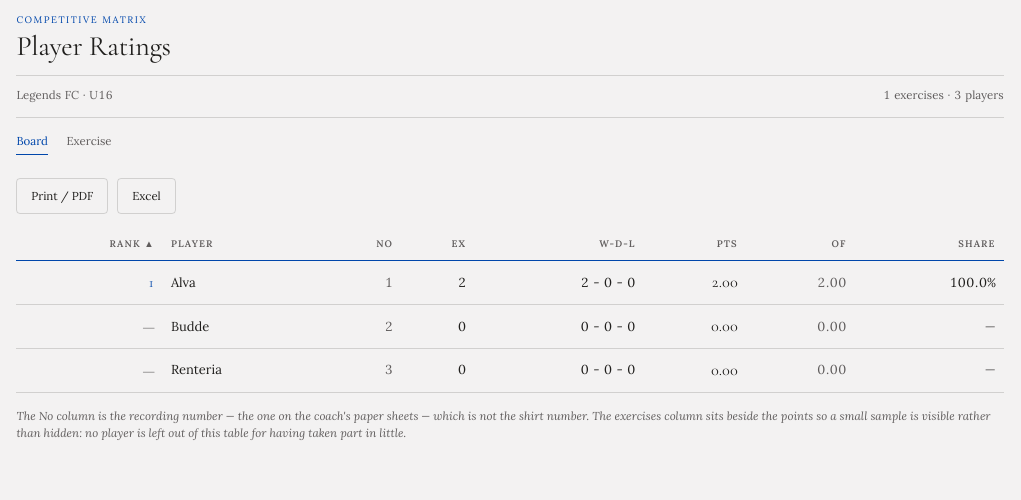
Test: a fitness standard › says so when the whole squad met the standard
The image size is (1021, 500).
Click the button "Exercise" at x=89, y=144, box x1=66 y1=132 x2=112 y2=155
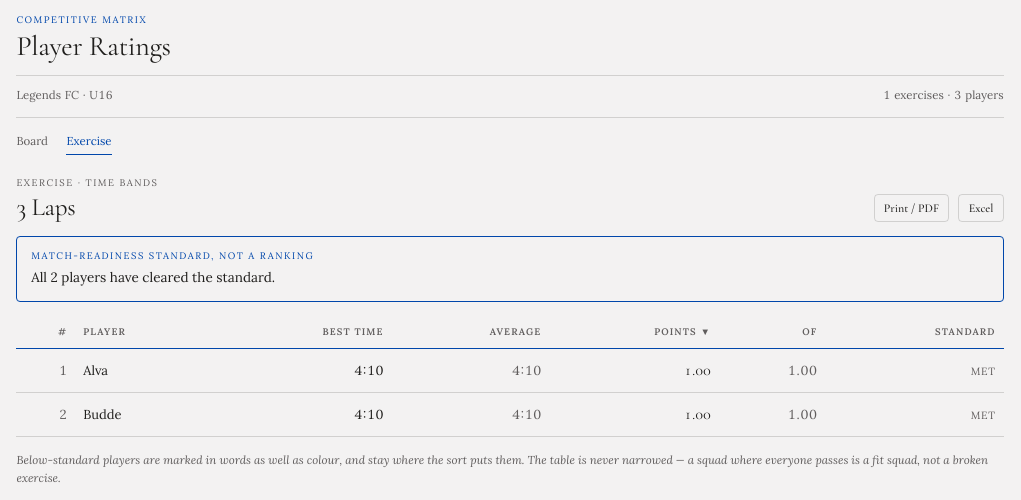
Result: the element that starts with "Match-readiness standard, not a ranking" shows "All 2 players have cleared" at x1=31 y1=268 x2=275 y2=286
